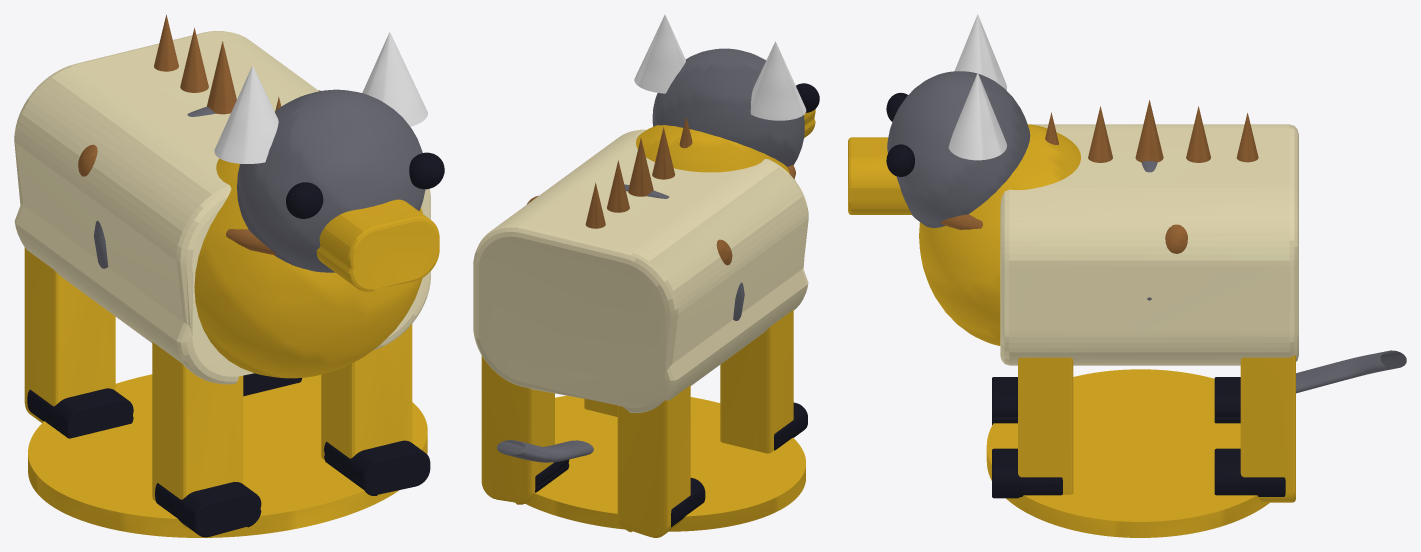
The model's file is 0882_森林动物图鉴_长尾虎猫.glb.
3 views of the same model, side by side, from view 1: azimuth 30°, elevation 25°; view 2: azimuth 150°, elevation 25°; view 3: azimuth 270°, elevation 25° (orthographic). The views are drawn at different scales.
Parts seen in each view (by area): view 1: card_0882; view 2: card_0882; view 3: card_0882.
Part boxes in pixels (box(x1,y1,x2,y2)): card_0882: box(14, 14, 444, 537); card_0882: box(473, 14, 819, 537); card_0882: box(848, 14, 1406, 537).
Size of the model in its own units: 0.7821 by 1 by 1.21.
